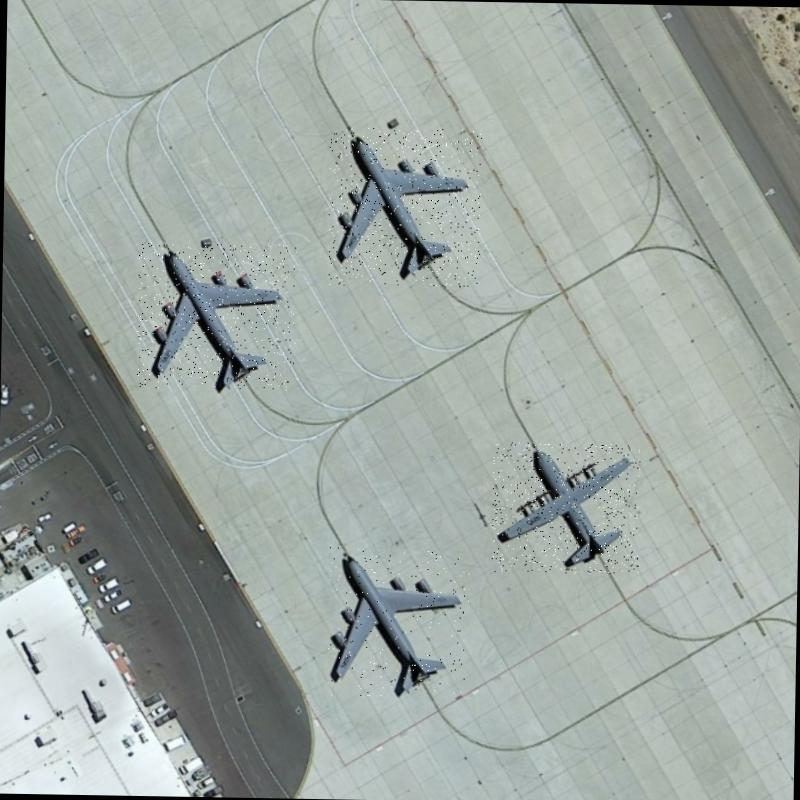A14: (327, 126, 482, 288), (136, 242, 297, 390), (326, 547, 470, 697)
A2: (491, 442, 640, 574)
